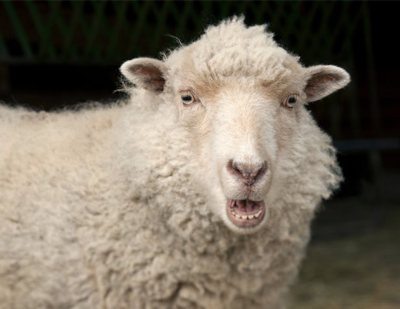koyun: (121, 15, 351, 240)
